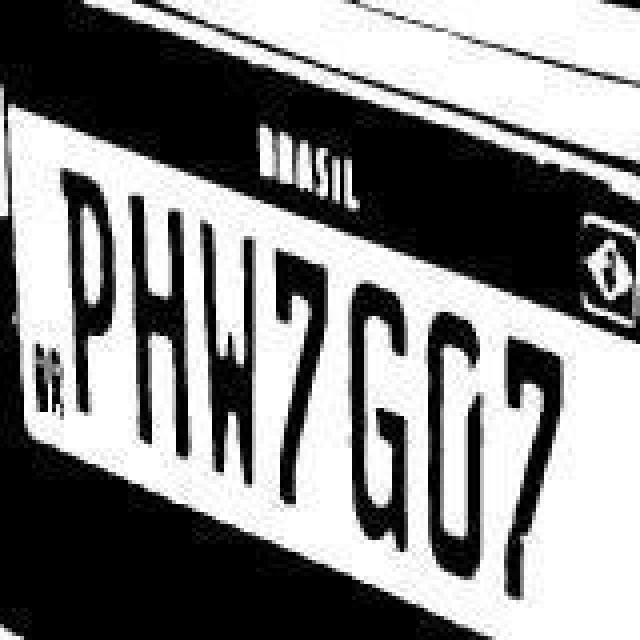7: (494, 322, 562, 606), (268, 246, 340, 514)
D: (426, 310, 486, 586)
G: (346, 286, 414, 554)
H: (128, 196, 192, 460)
P: (54, 162, 122, 430)
W: (196, 222, 268, 498)
